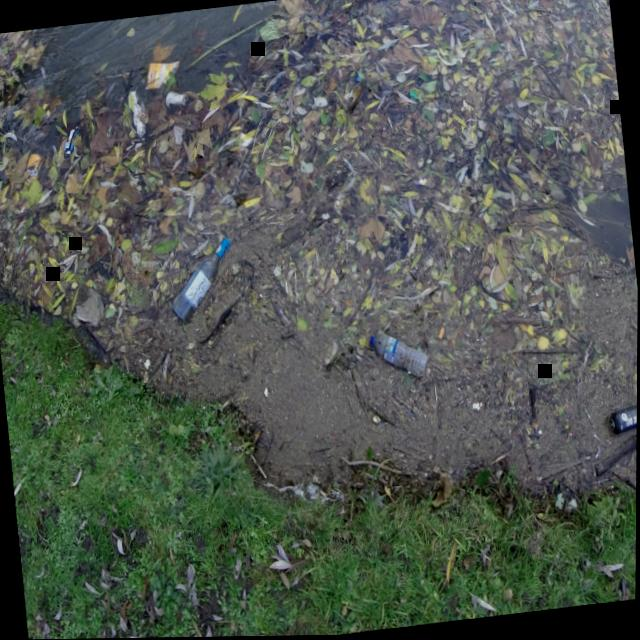Aerosol: (608, 404, 638, 435)
Clear plastic bottle: (171, 236, 230, 324), (369, 334, 427, 377)
Crisp packet: (143, 60, 178, 88), (23, 152, 43, 185)
Other plastic: (63, 124, 80, 157)
Other plastic bottle: (438, 328, 444, 339), (408, 92, 416, 98), (355, 76, 358, 81)
Unlabeled litter: (127, 90, 145, 137), (165, 90, 186, 108), (427, 108, 438, 114)
